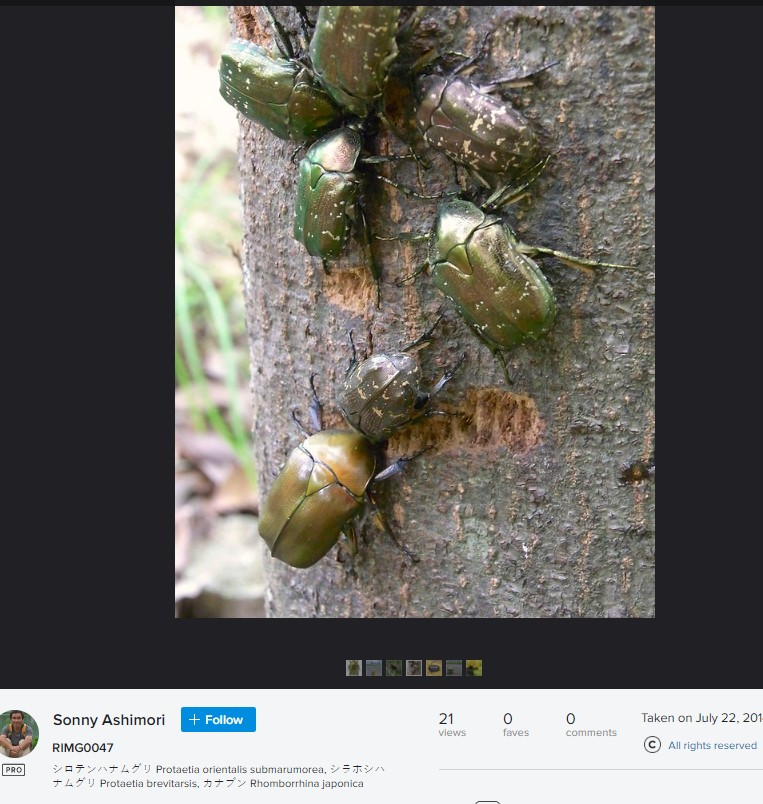Protaetia _orientalis: (424, 188, 625, 372), (395, 30, 584, 183), (282, 114, 394, 285), (211, 25, 362, 145), (326, 324, 452, 438), (309, 1, 405, 131)
